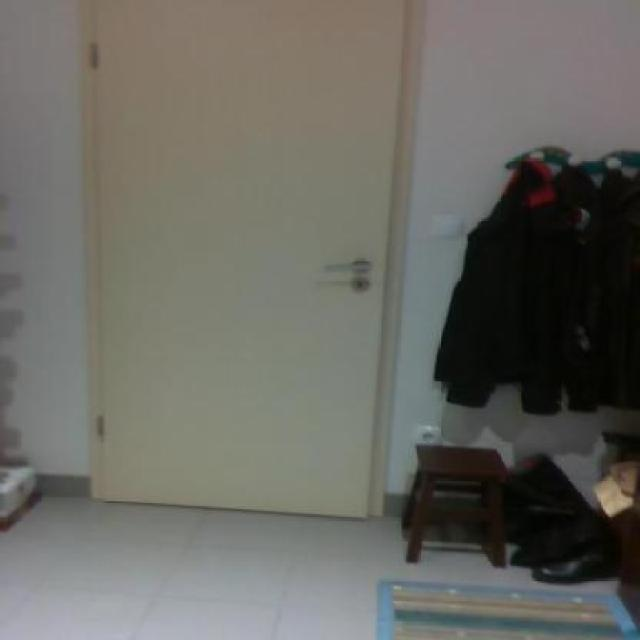door_handle: (315, 253, 378, 281)
